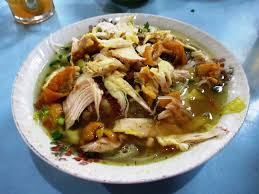soto: (13, 15, 256, 184)
